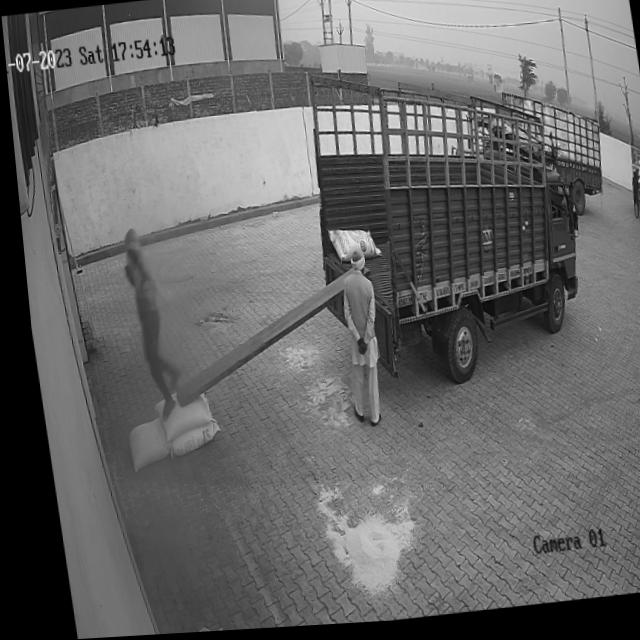sack: (143, 393, 205, 443), (117, 418, 162, 473), (157, 422, 214, 458), (322, 228, 374, 266)
